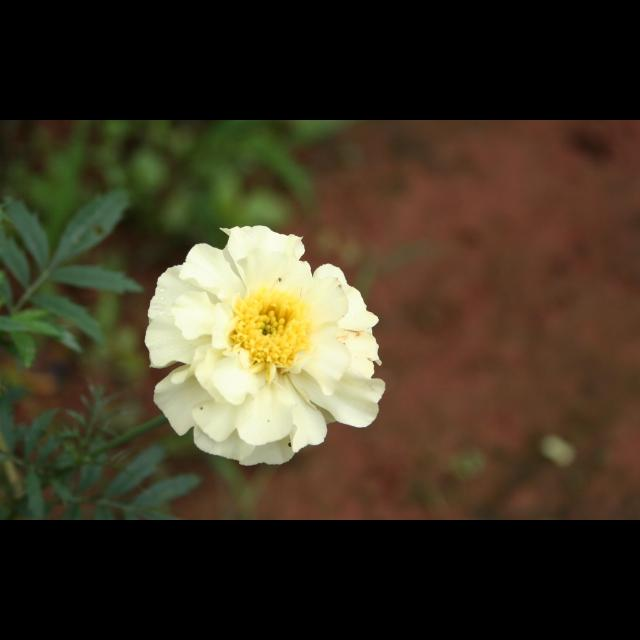Flower: (144, 222, 390, 466)
